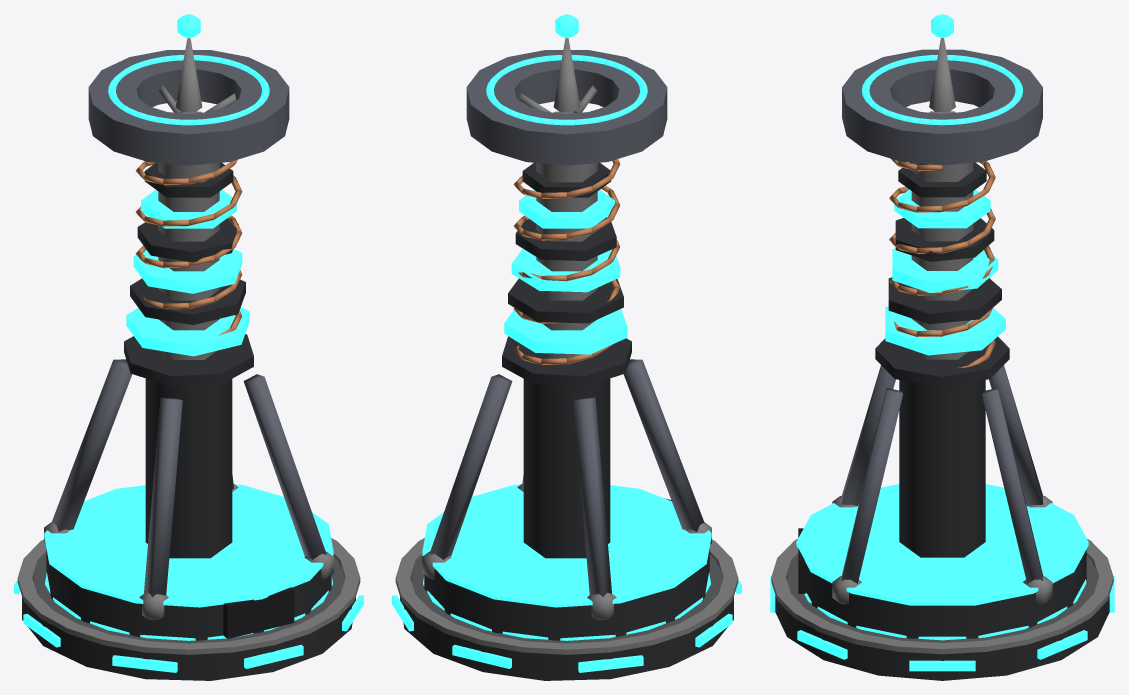
The model's file is Laser_Tesla.glb.
3 renders of one model, left to right at view 1: azimuth 30°, elevation 25°; view 2: azimuth 150°, elevation 25°; view 3: azimuth 270°, elevation 25°, orthographic.
Visible parts, largest first — view 1: Laser_Tesla; view 2: Laser_Tesla; view 3: Laser_Tesla.
Part boxes in pixels (left/top/right/bottom): Laser_Tesla: left=14, top=14, right=363, bottom=680; Laser_Tesla: left=392, top=14, right=741, bottom=680; Laser_Tesla: left=770, top=14, right=1114, bottom=680.
Size of the model in its own units: 3.58 by 6.84 by 3.58.
